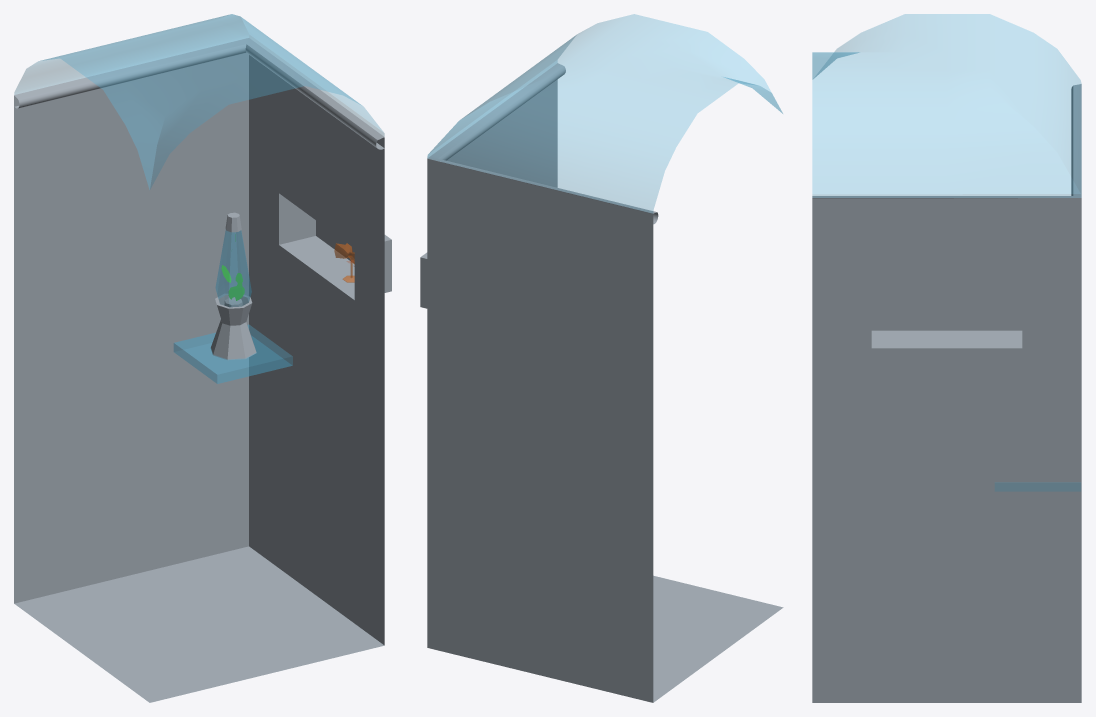
File: LeftTurn1Reagan.fbx
3 renders of one model, left to right at view 1: azimuth 30°, elevation 25°; view 2: azimuth 150°, elevation 25°; view 3: azimuth 270°, elevation 25°, orthographic. The views are drawn at different scales.
Visible parts, largest first — view 1: LeftTurn1; view 2: LeftTurn1; view 3: LeftTurn1.
Boxes of the visible parts, bbox=[...] form: LeftTurn1: bbox=[14, 14, 391, 702]; LeftTurn1: bbox=[420, 14, 783, 702]; LeftTurn1: bbox=[812, 14, 1081, 702].
Size of the model in its own units: 1.39 by 1.2 by 2.83.
